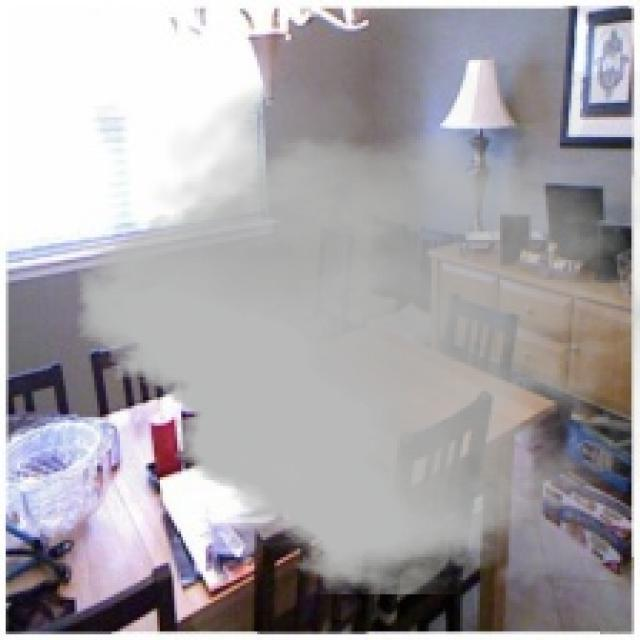Smoke: (77, 71, 637, 606)
